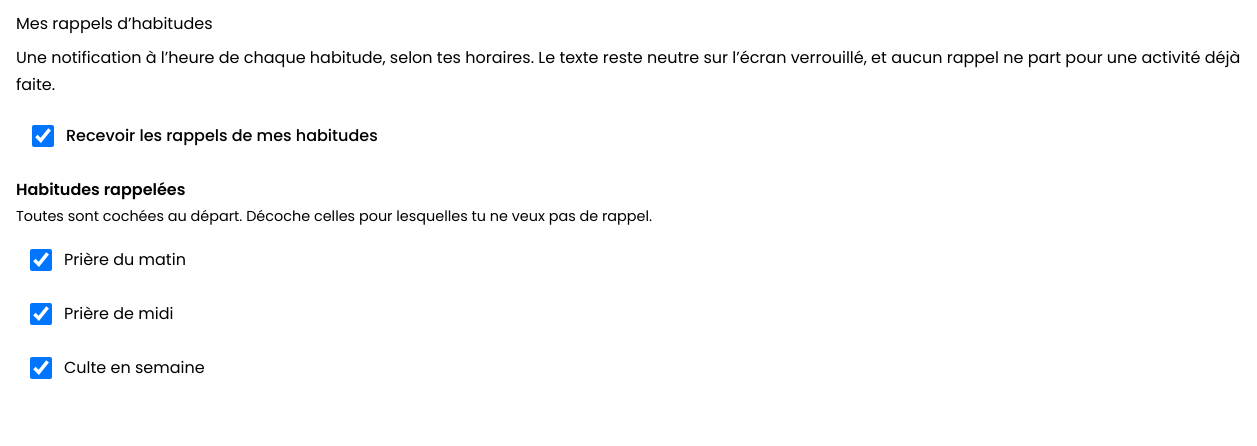
Test: un refus du serveur est annoncé sans changer l’affichage
Click the checkbox labelled "Prière du matin": (41, 260) [30,249,52,271]
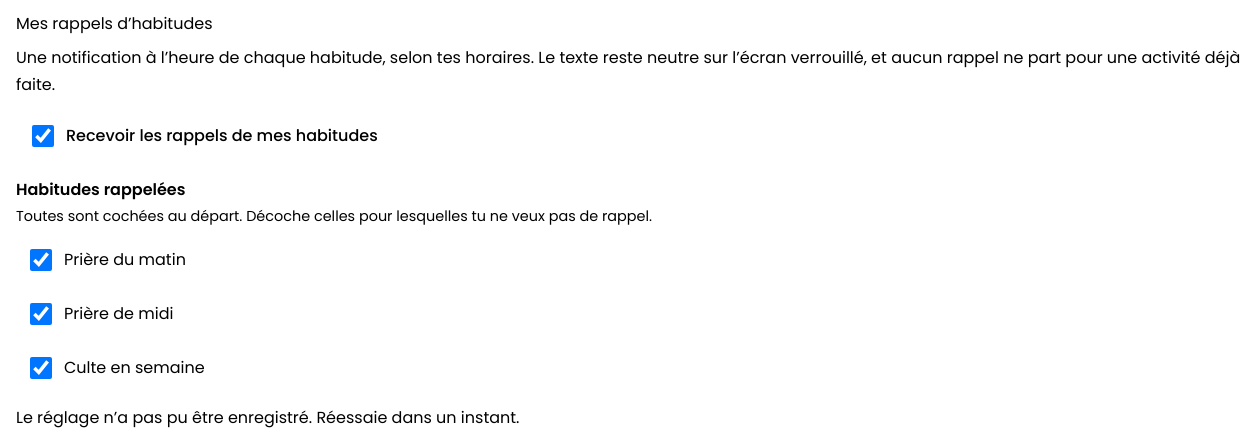
Expected: the message shows "n’a pas pu être enregistré", [16,406,520,429]
